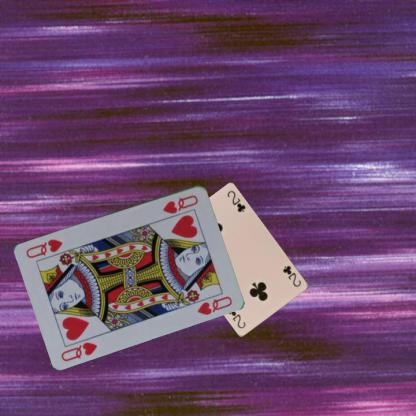2c: (280, 263, 303, 288)
Qh: (58, 339, 99, 362), (160, 192, 199, 215)
